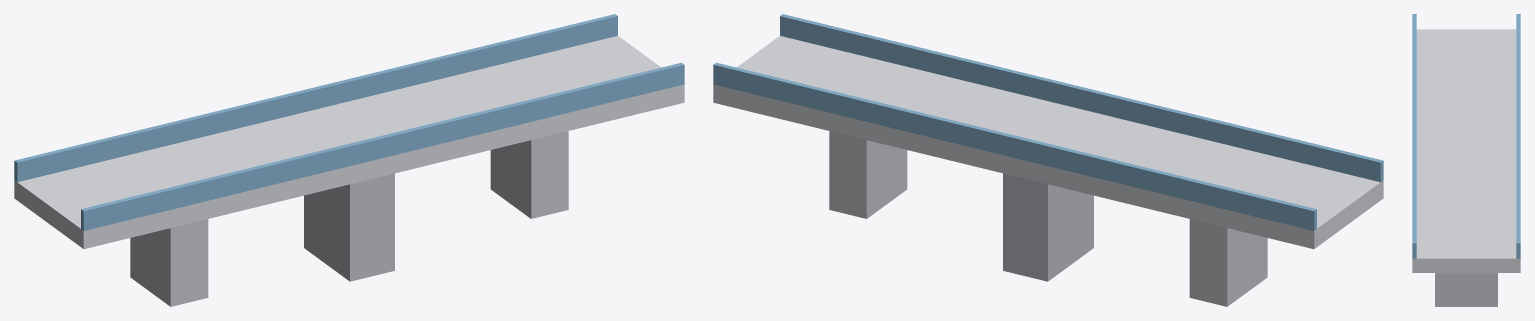
The model's file is bridge-sample.glb.
The picture shows the model from 3 angles, left to right: view 1: azimuth 30°, elevation 25°; view 2: azimuth 150°, elevation 25°; view 3: azimuth 270°, elevation 25°; orthographic projection. The views are drawn at different scales.
Parts seen in each view (by area): view 1: Deck, Guardrail-Right, Guardrail-Left, Pier-Center, Pier-Left, Pier-Right; view 2: Deck, Guardrail-Left, Guardrail-Right, Pier-Center, Pier-Left, Pier-Right; view 3: Deck, Pier-Right, Guardrail-Left, Guardrail-Right.
Part boxes in pixels (bbox=[...]): Deck: bbox=[14, 36, 684, 248]; Guardrail-Right: bbox=[81, 62, 684, 230]; Guardrail-Left: bbox=[14, 14, 617, 182]; Pier-Center: bbox=[304, 173, 394, 281]; Pier-Left: bbox=[130, 219, 208, 306]; Pier-Right: bbox=[490, 131, 568, 218]; Deck: bbox=[713, 36, 1383, 248]; Guardrail-Left: bbox=[713, 62, 1316, 230]; Guardrail-Right: bbox=[780, 14, 1383, 182]; Pier-Center: bbox=[1003, 173, 1093, 281]; Pier-Left: bbox=[1189, 219, 1267, 306]; Pier-Right: bbox=[829, 131, 907, 218]; Deck: bbox=[1412, 29, 1520, 272]; Pier-Right: bbox=[1435, 273, 1497, 306]; Guardrail-Left: bbox=[1516, 14, 1520, 258]; Guardrail-Right: bbox=[1412, 14, 1416, 258].
Size of the model in its own units: 12 by 2.8 by 2.4.
